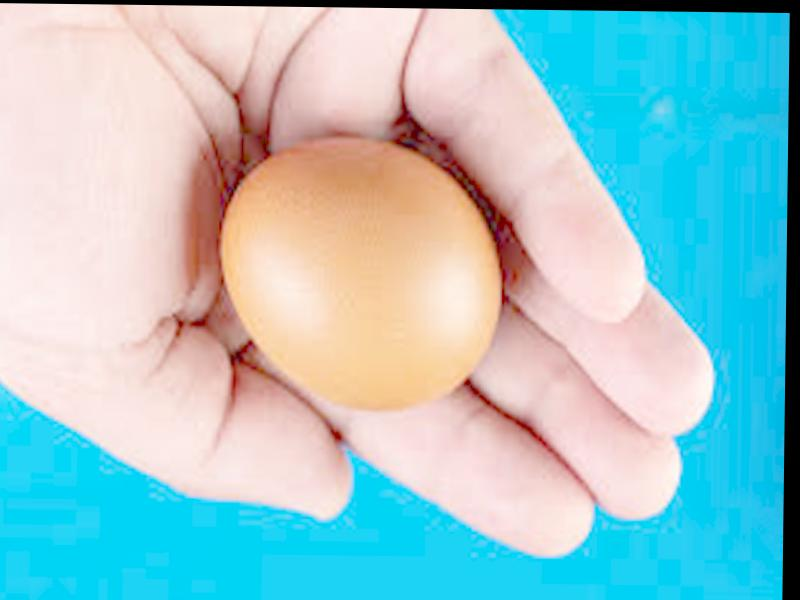Eggs: (220, 143, 506, 412)
